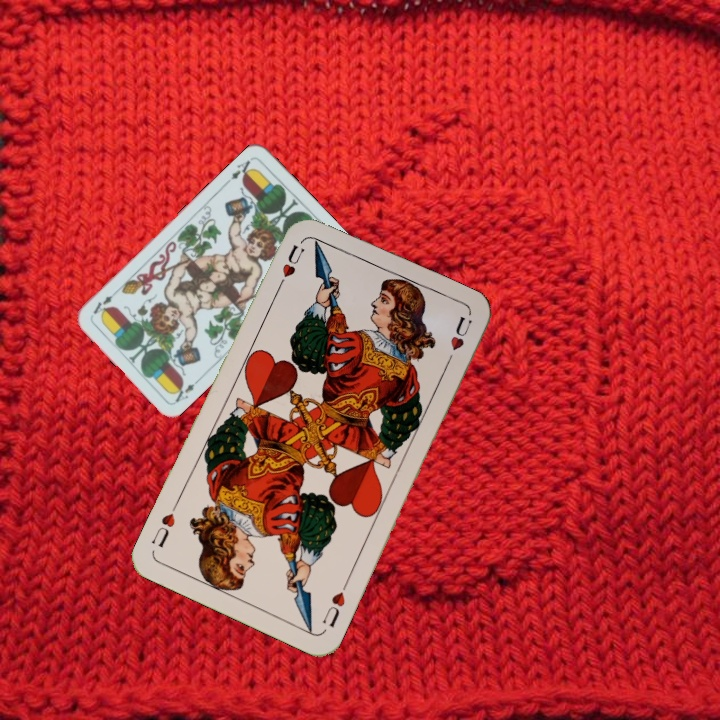EA: (169, 374, 203, 405), (227, 156, 257, 182)
HU: (318, 577, 351, 630), (278, 240, 308, 280)
